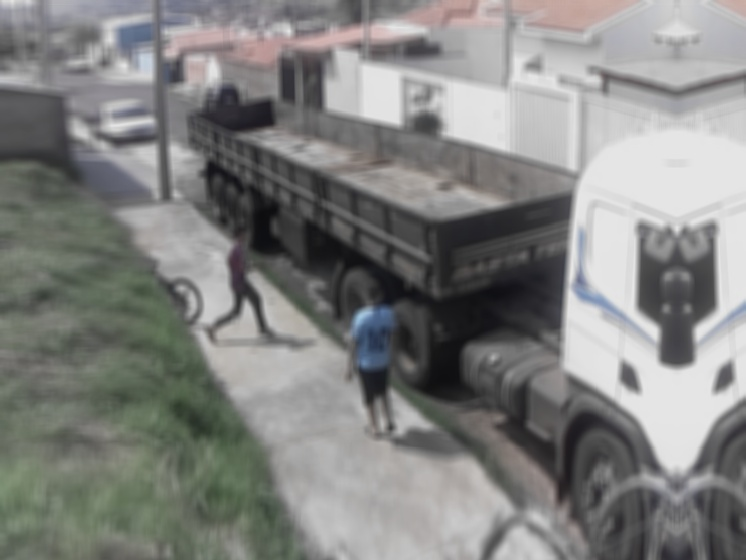person: (341, 280, 400, 440), (203, 219, 275, 348)
